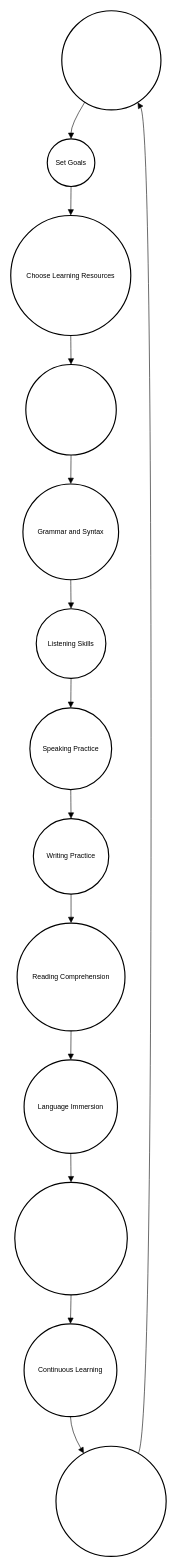
The diagram is 176 pixels wide and 1567 high, and some of its shapes have lost their labels. The box of each missing label's shape, as (x1, y1, x2, y2) in pixels:
Develop Vocabulary: (25, 364, 117, 455)
Feedback and Evaluation: (14, 1181, 128, 1295)
Review and Revise Goals: (55, 1445, 166, 1557)
Start Learning English: (61, 10, 161, 110)
